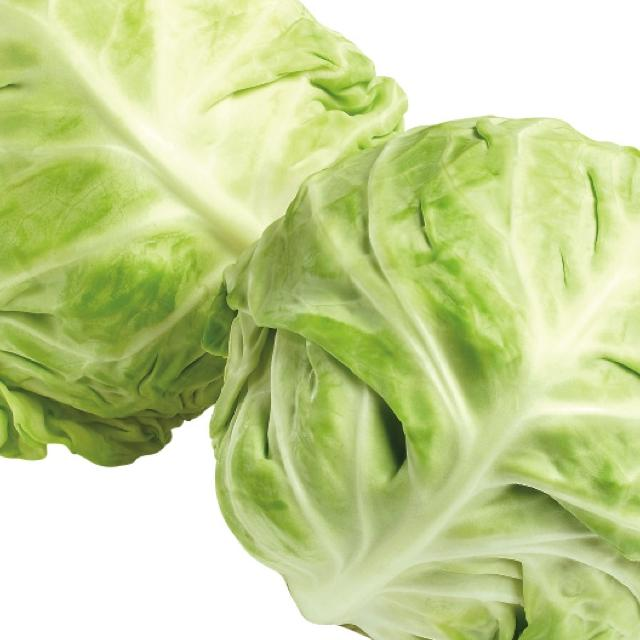cabbage: (193, 116, 640, 640)
